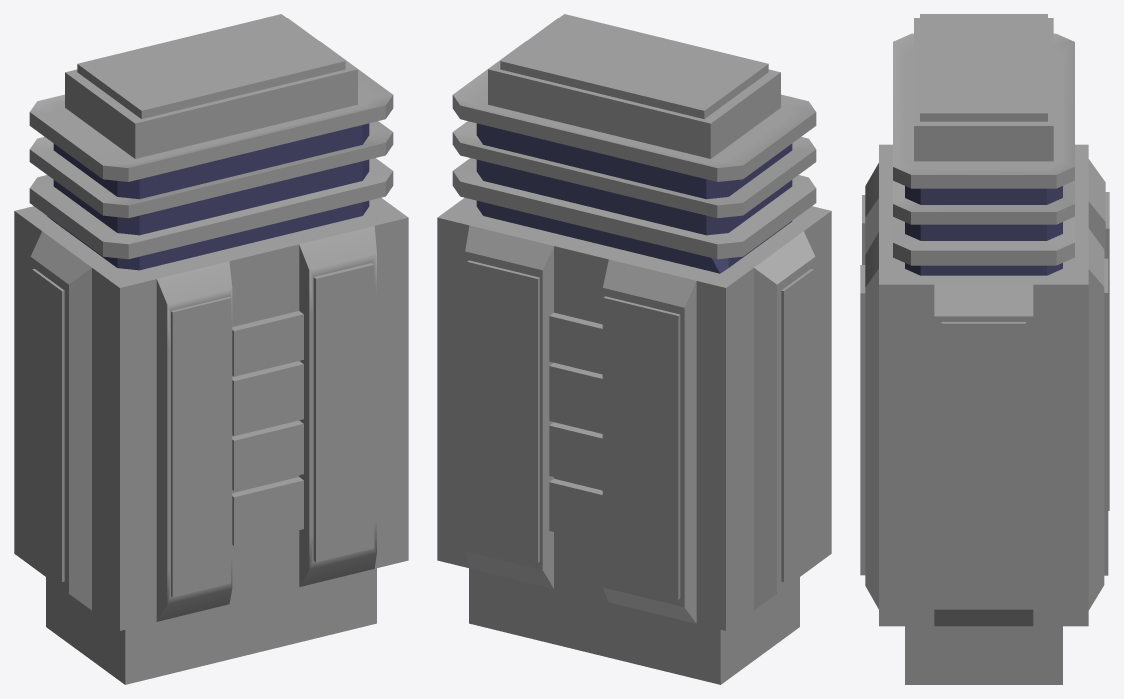
Rendered from NEW_cyber_build.fbx.
The picture shows the model from 3 angles, left to right: view 1: azimuth 30°, elevation 25°; view 2: azimuth 150°, elevation 25°; view 3: azimuth 270°, elevation 25°; orthographic projection.
Visible parts, largest first — view 1: cyber_build_tst_1; view 2: cyber_build_tst_1; view 3: cyber_build_tst_1.
Part boxes in pixels (x1,y1,x2,y2): cyber_build_tst_1: (14,14,408,684); cyber_build_tst_1: (437,14,831,684); cyber_build_tst_1: (860,14,1109,684).
Size of the model in its own units: 47.66 by 78.27 by 31.54.
